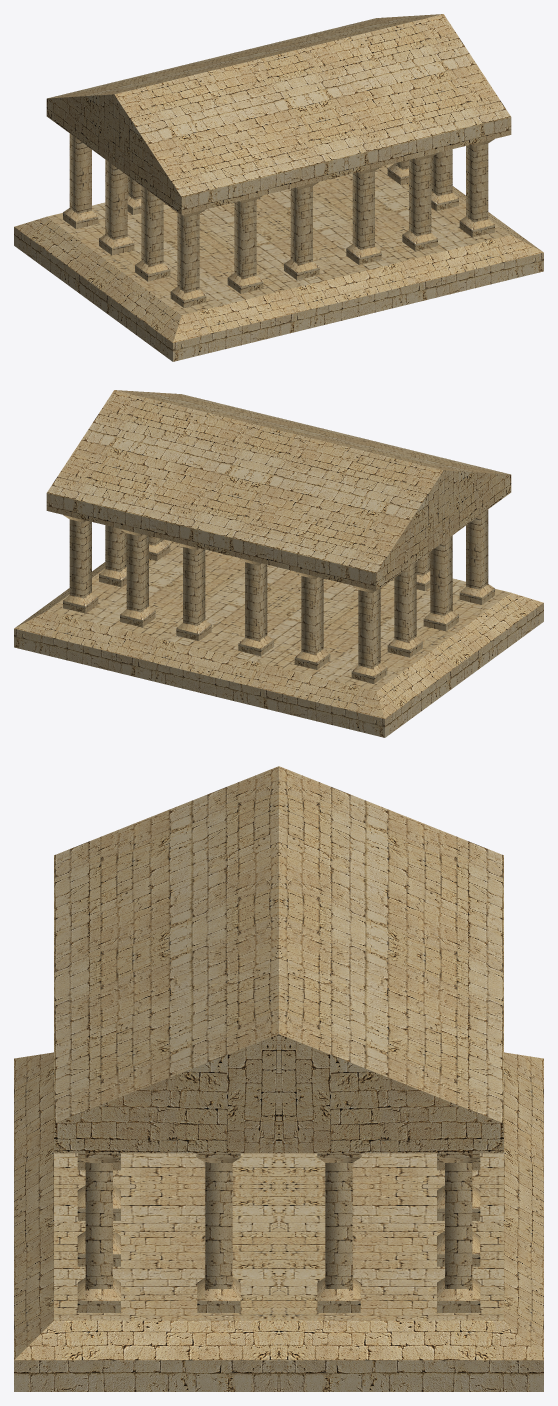
The model's file is ST_PetitTemple_01a.FBX.
3 renders of one model, top to bottom at view 1: azimuth 30°, elevation 25°; view 2: azimuth 150°, elevation 25°; view 3: azimuth 270°, elevation 25°, orthographic. The views are drawn at different scales.
Parts seen in each view (by area): view 1: petit temple, pilier petit temple; view 2: petit temple, pilier petit temple; view 3: petit temple, pilier petit temple.
Boxes of the visible parts, box(x1,y1,x2,y2) form: petit temple: box(14, 14, 543, 361); pilier petit temple: box(63, 133, 494, 307); petit temple: box(14, 390, 543, 737); pilier petit temple: box(63, 509, 494, 683); petit temple: box(14, 766, 543, 1391); pilier petit temple: box(77, 1153, 480, 1312).
Size of the model in its own units: 2624 by 1381 by 1946.
